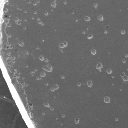corrosion: (42, 63, 53, 73), (59, 40, 68, 50), (49, 83, 59, 92), (95, 61, 103, 70), (36, 17, 44, 26), (13, 18, 23, 25), (103, 96, 111, 104), (105, 67, 113, 75), (86, 32, 94, 40), (90, 47, 97, 56), (83, 15, 92, 22), (86, 80, 93, 88), (43, 101, 50, 109), (49, 1, 57, 8), (17, 39, 24, 47), (73, 117, 80, 124), (38, 54, 45, 61), (29, 69, 36, 76), (97, 15, 105, 21), (40, 71, 46, 78), (123, 75, 128, 83), (32, 1, 40, 6), (119, 71, 125, 77), (76, 81, 82, 87), (81, 29, 87, 35), (120, 28, 125, 35), (23, 50, 30, 55), (93, 3, 98, 9), (121, 58, 126, 64), (114, 116, 119, 122), (103, 30, 108, 35), (60, 75, 65, 80), (44, 82, 49, 87), (71, 11, 75, 16), (33, 10, 37, 14)
